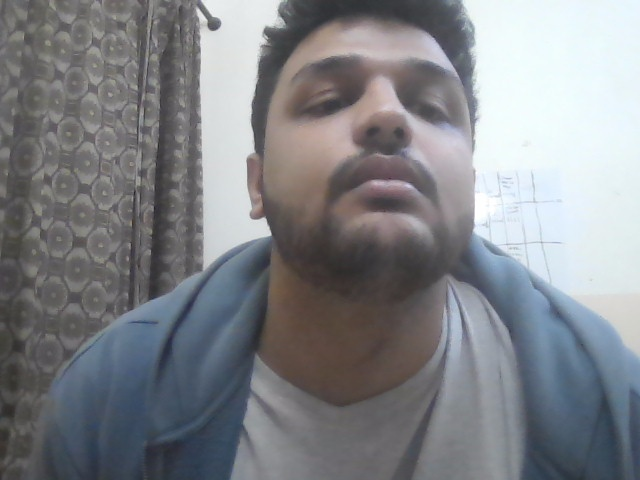awake: (204, 37, 520, 296)
